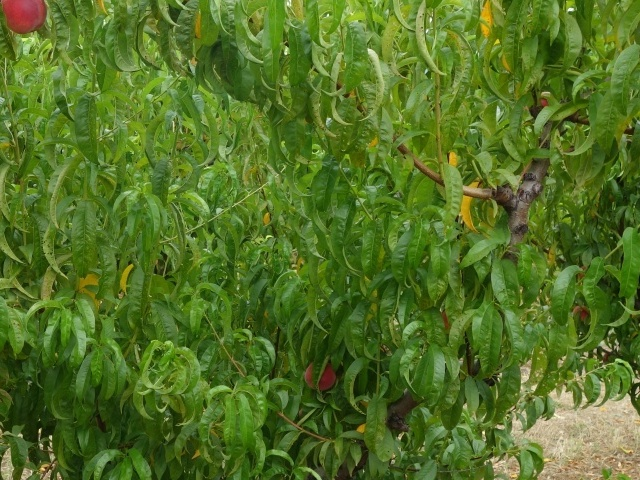peach: (1, 1, 48, 36), (302, 358, 338, 393), (569, 302, 591, 325)
